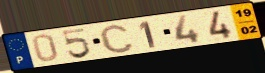0: (30, 33, 61, 63)
1: (138, 20, 158, 49)
4: (173, 14, 204, 45), (207, 9, 234, 40)
5: (61, 26, 94, 60)
C: (97, 23, 136, 54)
